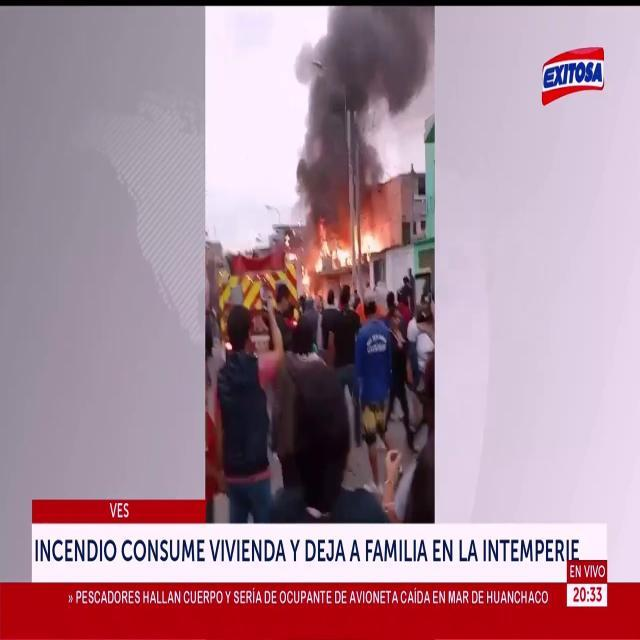Fire: (318, 208, 392, 272)
Smoke: (287, 5, 433, 224)
